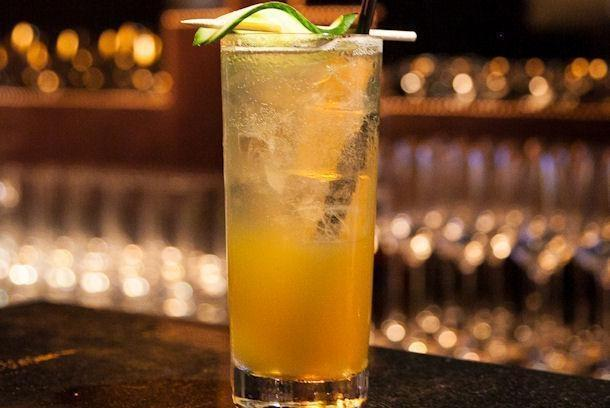glass-normal: (218, 31, 386, 407)
